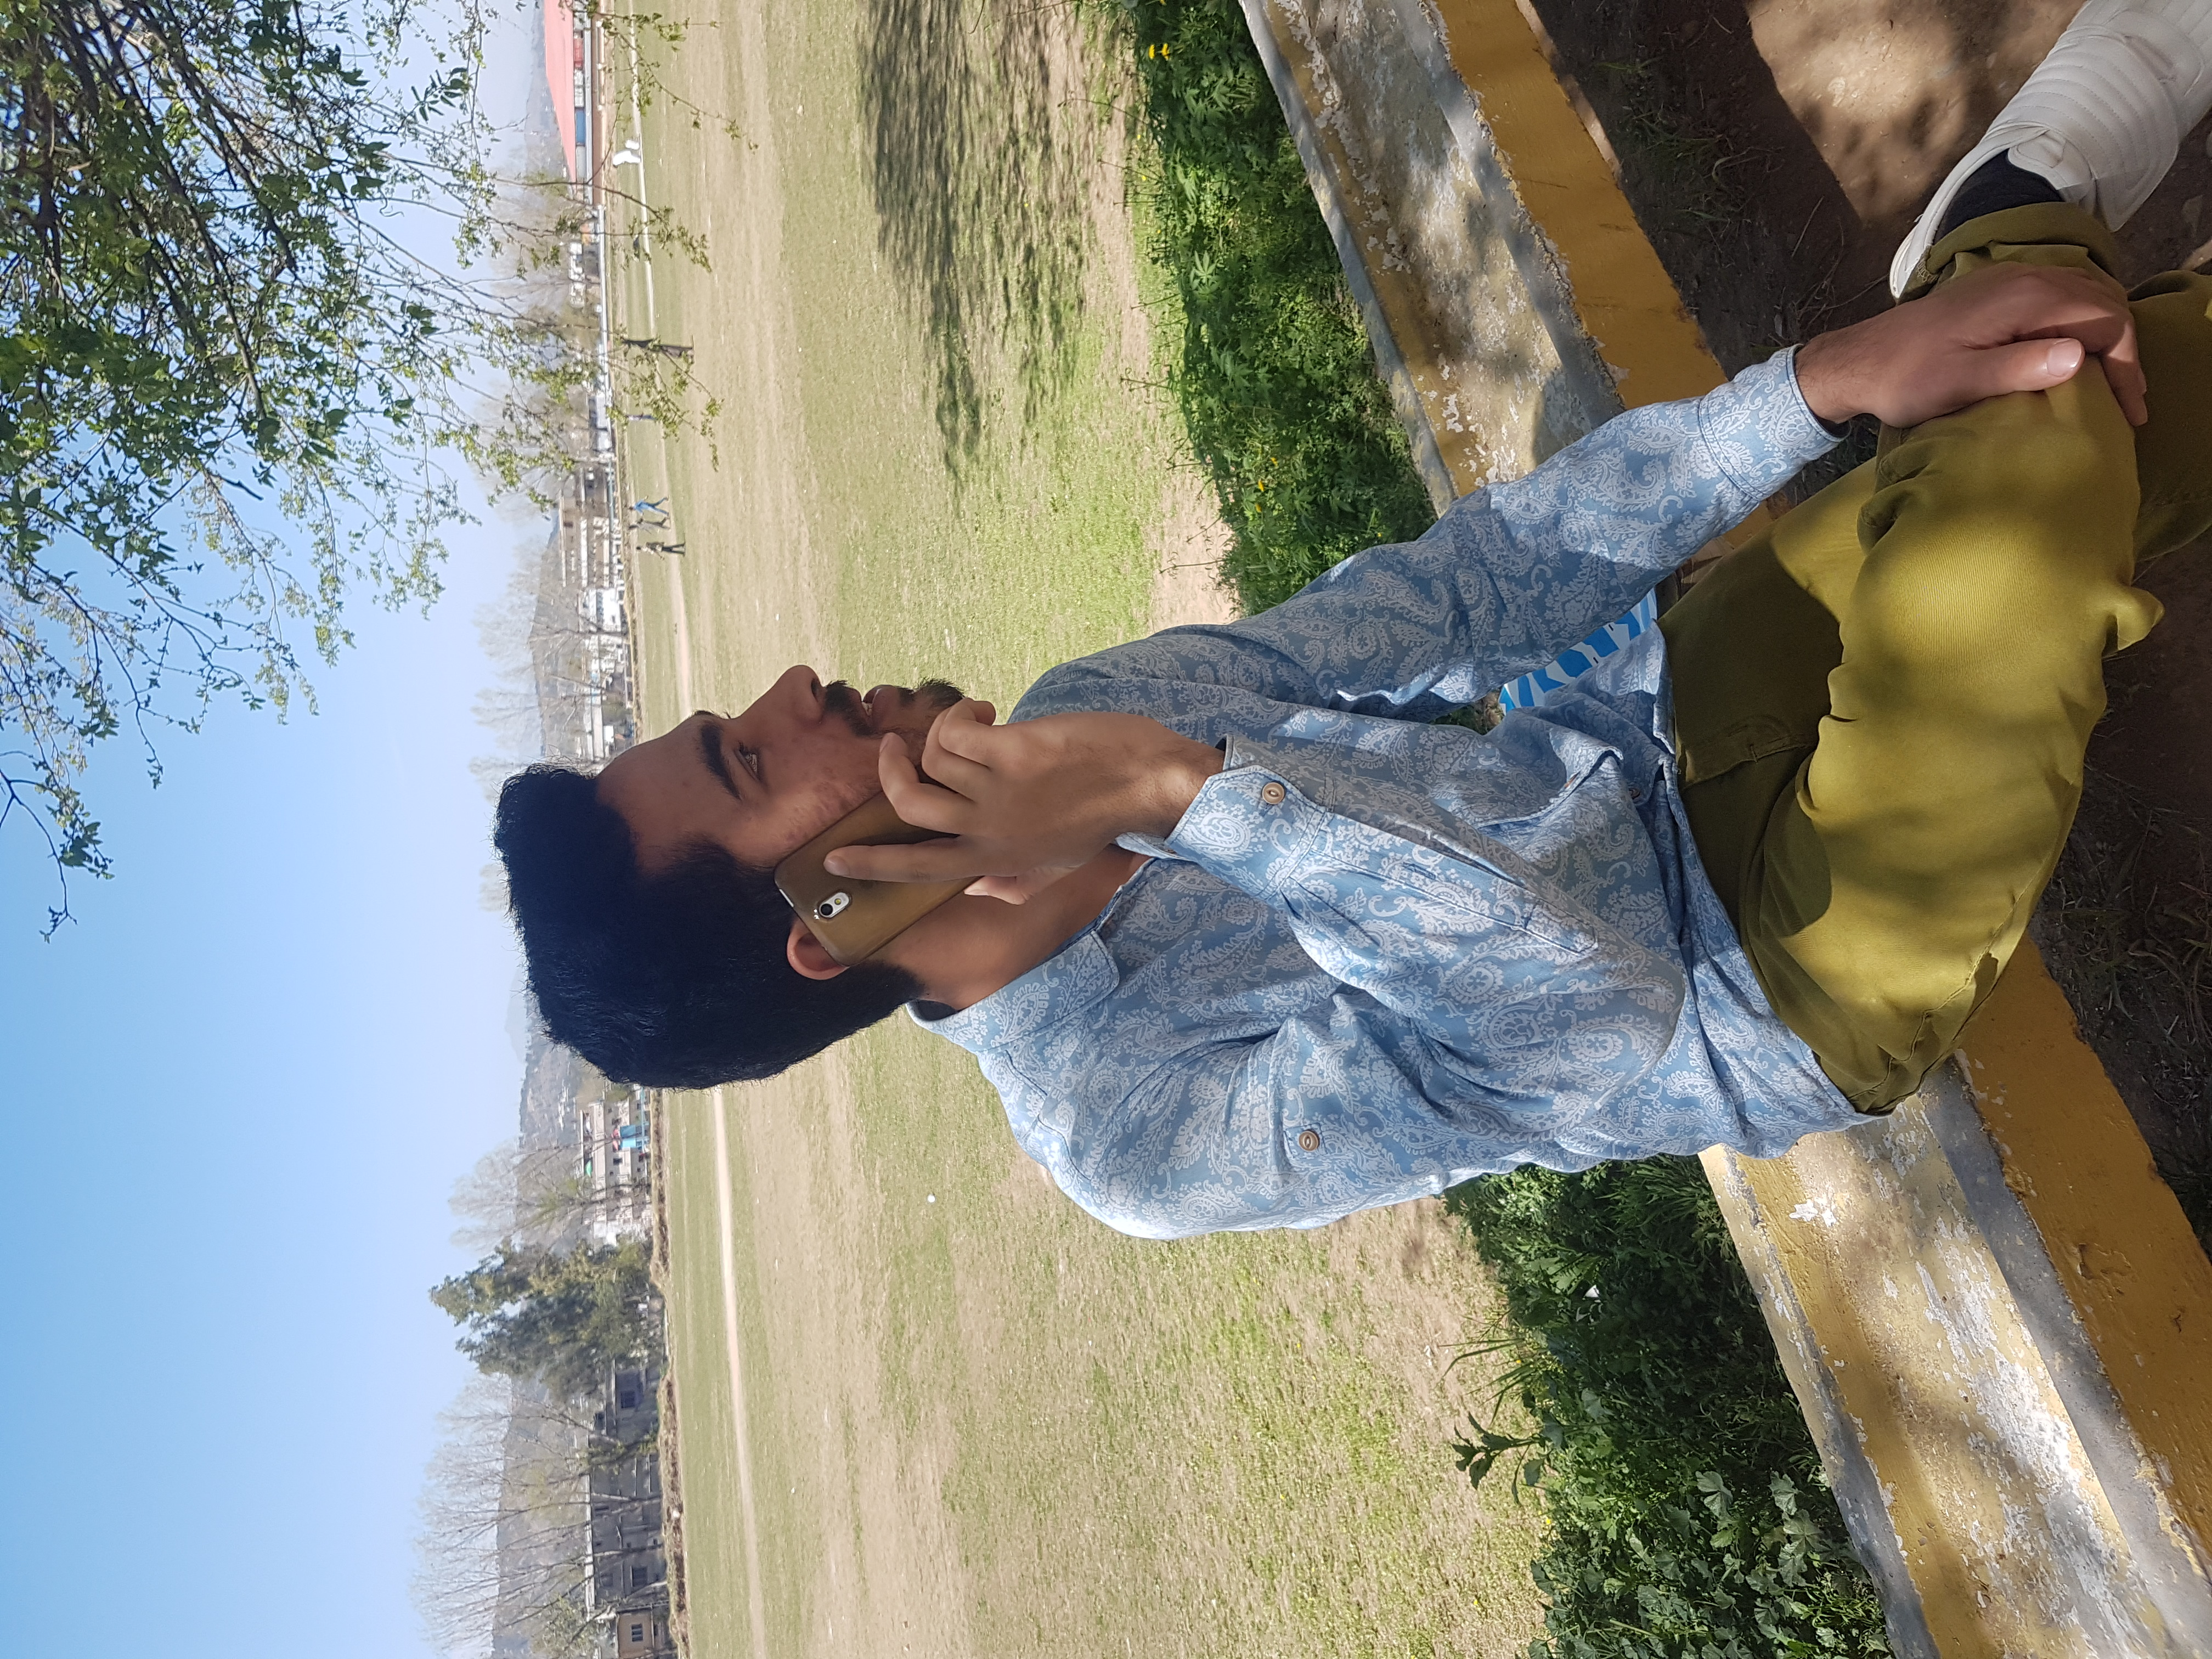face: (497, 665, 1005, 865)
mobile: (784, 820, 953, 942)
